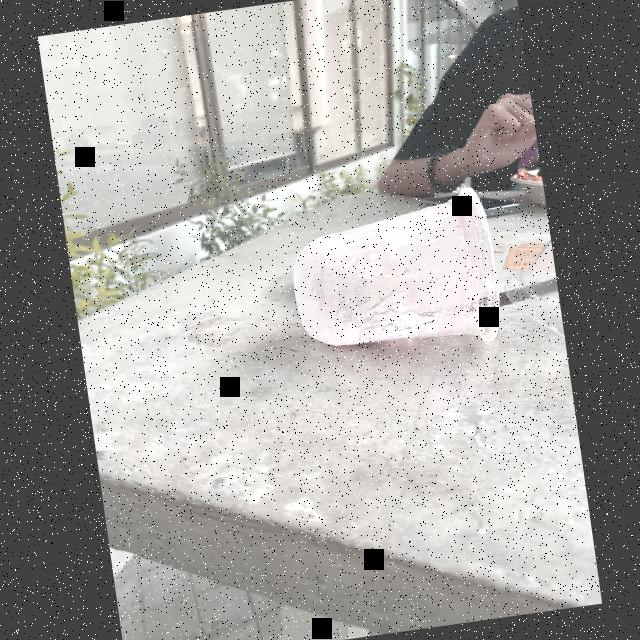plastic_cup: (282, 177, 508, 377)
straw: (483, 274, 559, 310)
